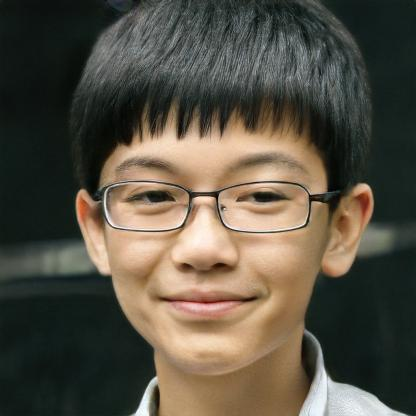glasses: (96, 176, 324, 238)
